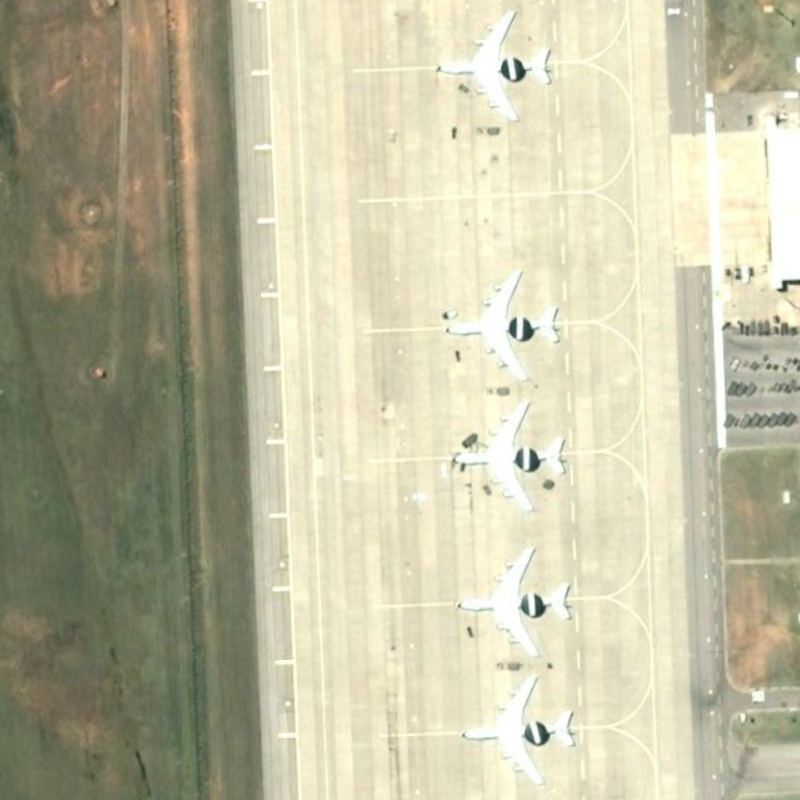A7: (424, 5, 570, 132), (438, 262, 569, 388), (454, 670, 587, 794), (448, 394, 573, 522), (452, 536, 576, 665)
